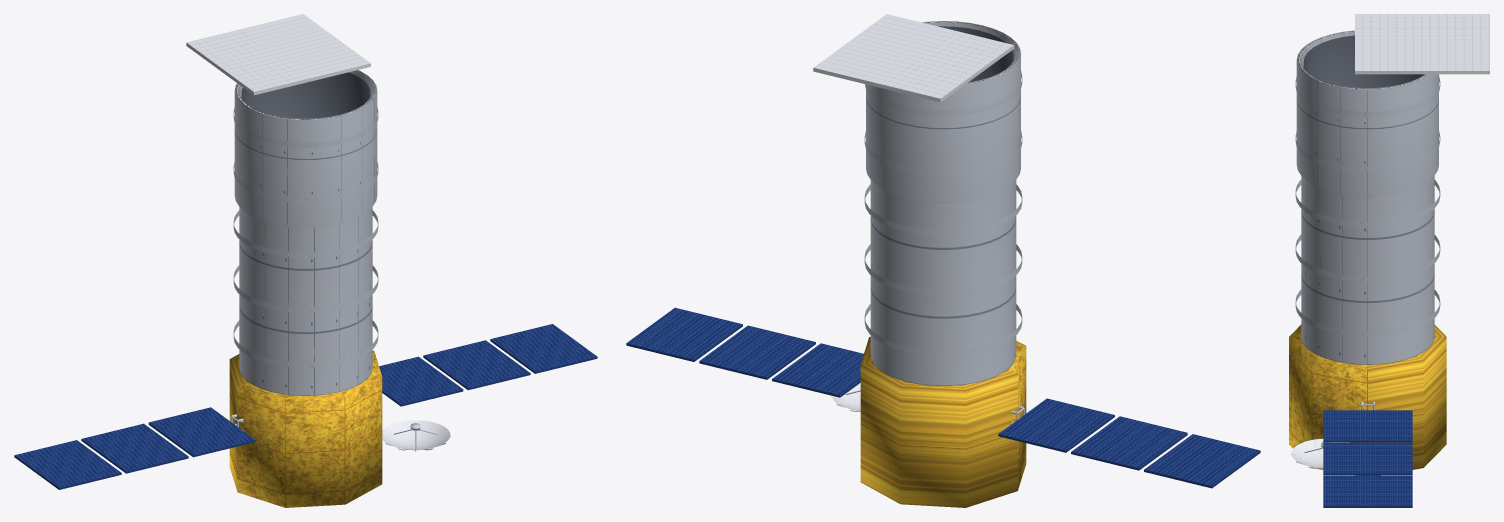
The model's file is sc_csst.glb.
3 views of the same model, side by side, from view 1: azimuth 30°, elevation 25°; view 2: azimuth 150°, elevation 25°; view 3: azimuth 270°, elevation 25° (orthographic). The views are drawn at different scales.
Parts seen in each view (by area): view 1: csst_tma_tube, csst_solar_wings, csst_hex_bus, csst_door_and_dish, csst_baffle_interior; view 2: csst_tma_tube, csst_solar_wings, csst_hex_bus, csst_door_and_dish, csst_baffle_interior; view 3: csst_tma_tube, csst_hex_bus, csst_door_and_dish, csst_solar_wings, csst_baffle_interior.
Part boxes in pixels (box(x1,y1,x2,y2)): csst_tma_tube: box(231, 70, 450, 451); csst_solar_wings: box(14, 324, 597, 489); csst_hex_bus: box(229, 350, 382, 507); csst_door_and_dish: box(186, 14, 450, 450); csst_baffle_interior: box(241, 72, 370, 118); csst_tma_tube: box(831, 21, 1024, 424); csst_solar_wings: box(626, 307, 1260, 488); csst_hex_bus: box(860, 337, 1026, 507); csst_door_and_dish: box(813, 14, 1014, 411); csst_baffle_interior: box(938, 26, 1013, 82); csst_tma_tube: box(1291, 30, 1440, 468); csst_hex_bus: box(1289, 324, 1446, 475); csst_door_and_dish: box(1291, 14, 1489, 468); csst_solar_wings: box(1323, 410, 1412, 507); csst_baffle_interior: box(1303, 35, 1424, 87).
Size of the model in its own units: 1.77 by 1.27 by 0.5741.
6 materials, 4 textured.
